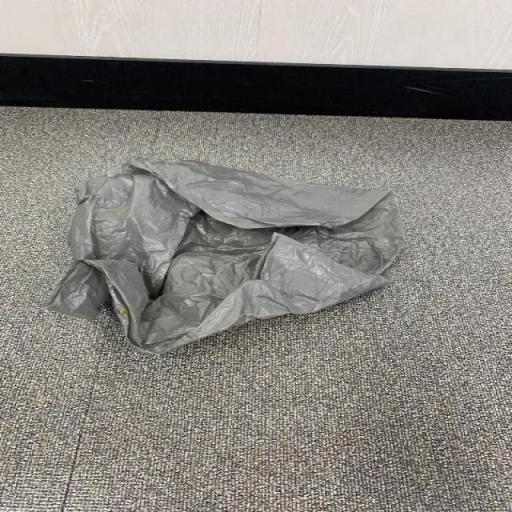plastic-bag: (41, 154, 409, 358)
